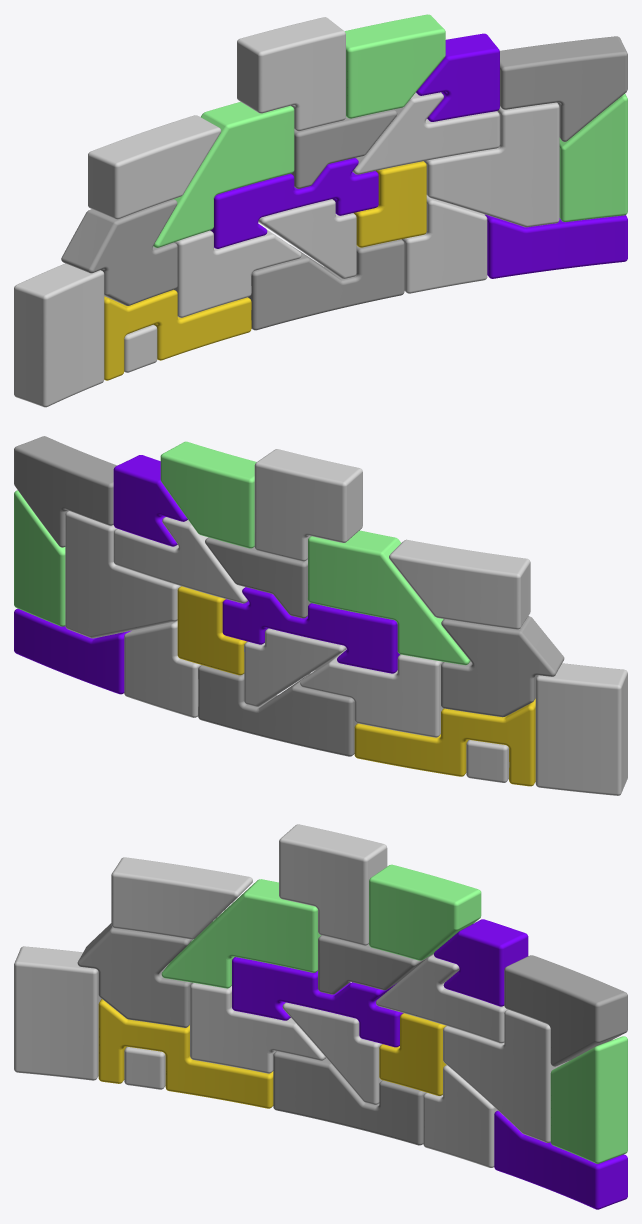
Rendered from keppa-tower.glb.
3 views of the same model, one above another, from view 1: azimuth 30°, elevation 25°; view 2: azimuth 150°, elevation 25°; view 3: azimuth 330°, elevation 25° (orthographic).
Visible parts, largest first — view 1: Object_15.001, Object_5, Object_8, Object_17.001, Object_3, Object_16, Object_12, Object_21, Object_14, Object_6, Object_1.001, Object_4 (+9 smaller); view 2: Object_15.001, Object_17.001, Object_8, Object_5, Object_16, Object_21, Object_12, Object_20, Object_14, Object_1.001, Object_19, Object_3 (+9 smaller); view 3: Object_15.001, Object_17.001, Object_8, Object_5, Object_3, Object_16, Object_4, Object_14, Object_12, Object_20, Object_21, Object_1.001 (+9 smaller).
Part boxes in pixels (x1,y1,x2,y2): Object_15.001: (14, 263, 104, 407); Object_5: (424, 102, 559, 227); Object_8: (237, 17, 345, 131); Object_17.001: (153, 102, 294, 247); Object_3: (500, 36, 627, 141); Object_16: (88, 115, 221, 219); Object_12: (248, 239, 404, 330); Object_21: (61, 199, 177, 305); Object_14: (345, 14, 445, 118); Object_6: (485, 214, 627, 278); Object_1.001: (210, 158, 378, 248); Object_4: (559, 93, 627, 222); Object_15.001: (535, 663, 627, 795); Object_17.001: (307, 530, 470, 665); Object_8: (254, 449, 362, 561); Object_5: (65, 511, 180, 638); Object_16: (389, 539, 530, 629); Object_21: (441, 616, 564, 717); Object_12: (198, 665, 357, 756); Object_20: (354, 698, 535, 786); Object_14: (160, 441, 256, 548); Object_1.001: (222, 587, 399, 673); Object_19: (300, 649, 443, 737); Object_3: (14, 436, 116, 547); Object_15.001: (14, 946, 101, 1080); Object_17.001: (161, 879, 320, 988); Object_8: (279, 824, 387, 945); Object_5: (443, 1009, 568, 1142); Object_3: (504, 955, 627, 1066); Object_16: (111, 857, 252, 939); Object_4: (550, 1036, 627, 1163); Object_14: (369, 864, 481, 960); Object_12: (273, 1051, 426, 1145); Object_20: (98, 999, 273, 1108); Object_21: (77, 923, 192, 1027); Object_1.001: (232, 957, 403, 1047).
Bounding box in the file's own units: 14.05 × 6.1 × 1.97.
